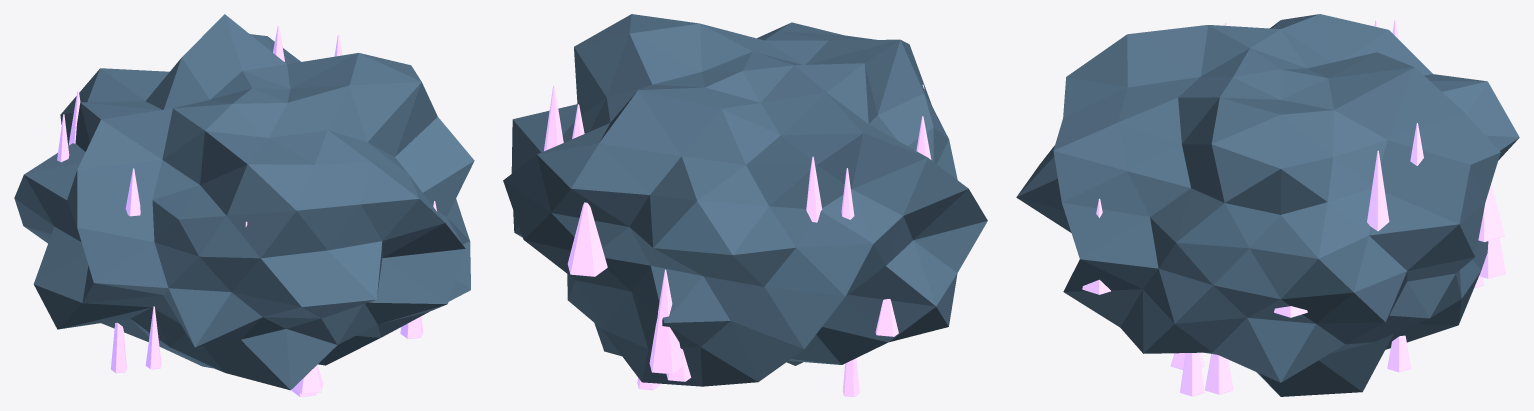
File: ore_echo_silica.glb
3 renders of one model, left to right at view 1: azimuth 30°, elevation 25°; view 2: azimuth 150°, elevation 25°; view 3: azimuth 270°, elevation 25°, orthographic. The views are drawn at different scales.
Parts seen in each view (by area): view 1: council_dark.006, ore_echo_silica_vein; view 2: council_dark.006, ore_echo_silica_vein; view 3: council_dark.006, ore_echo_silica_vein.
Boxes of the visible parts, box(x1,y1,x2,y2) form: council_dark.006: box(14, 14, 474, 390); ore_echo_silica_vein: box(57, 25, 436, 396); council_dark.006: box(503, 14, 987, 386); ore_echo_silica_vein: box(544, 84, 931, 396); council_dark.006: box(1016, 14, 1519, 396); ore_echo_silica_vein: box(1082, 19, 1505, 396).
Size of the model in its own units: 47.49 by 34.92 by 48.73.
